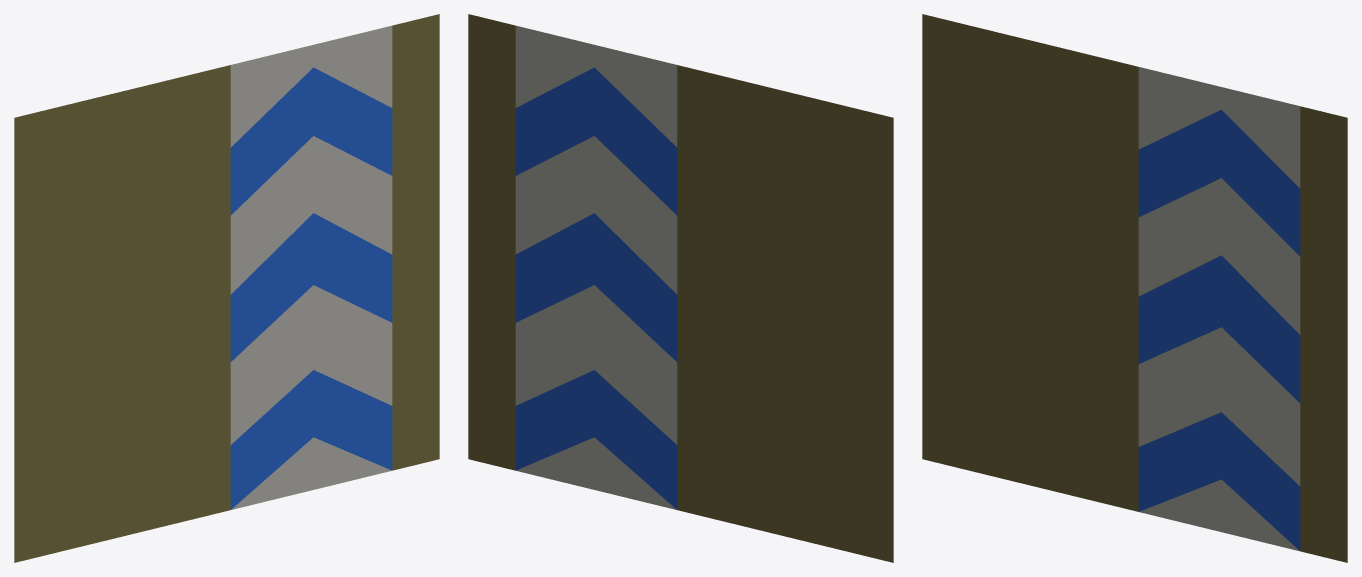
Rendered from Base_RoadFrontSide.fbx.
3 renders of one model, left to right at view 1: azimuth 30°, elevation 25°; view 2: azimuth 150°, elevation 25°; view 3: azimuth 330°, elevation 25°, orthographic.
Parts seen in each view (by area): view 1: Base_RoadFrontSide; view 2: Base_RoadFrontSide; view 3: Base_RoadFrontSide.
Part boxes in pixels (box(x1,y1,x2,y2)): Base_RoadFrontSide: box(14, 14, 439, 562); Base_RoadFrontSide: box(468, 14, 893, 562); Base_RoadFrontSide: box(922, 14, 1347, 562).
Size of the model in its own units: 2000 by 2000 by 0.000671.
